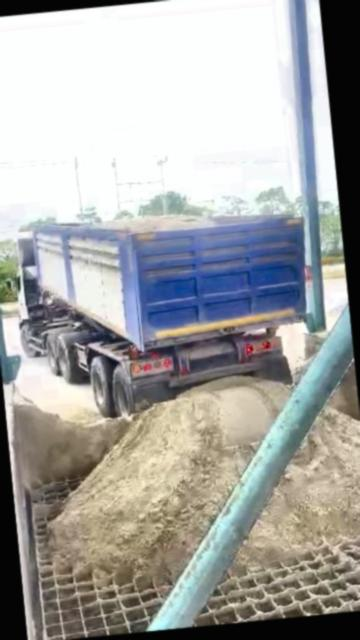sand: (52, 378, 290, 578), (239, 408, 360, 564), (14, 395, 131, 486), (95, 213, 223, 233), (331, 360, 360, 420), (293, 357, 312, 383)
